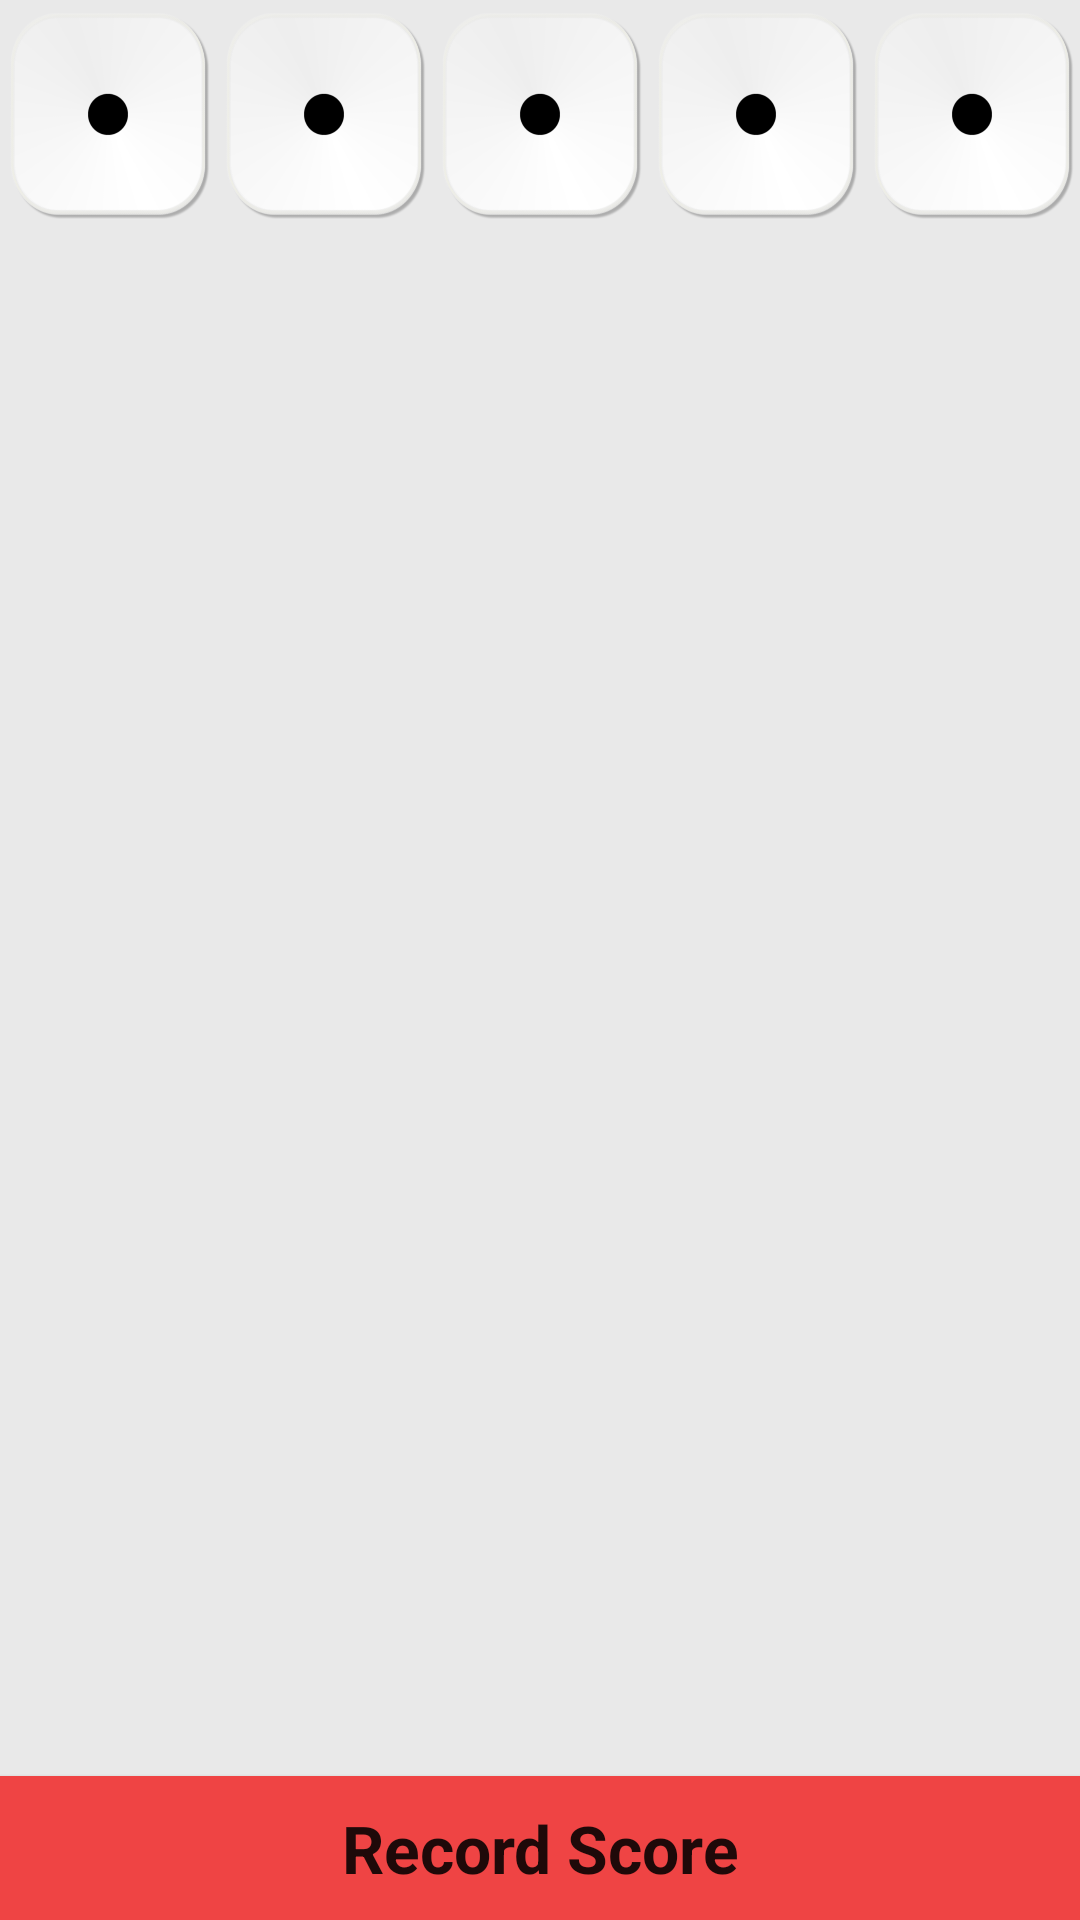

Named icons in this screenshot (1080px x 1920px) and their bounding boxes, bbox=[x1, y1, x2, y2]:
die one: bbox=[14, 18, 209, 219], bbox=[230, 18, 425, 219], bbox=[446, 18, 641, 219], bbox=[662, 18, 857, 219], bbox=[878, 18, 1073, 219]
